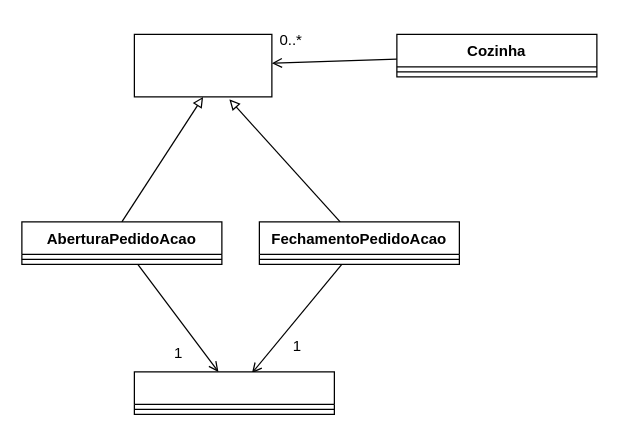
This 619x436 diagram has some shape labels left out. Here are the shapes that lost their labels. From the top down, the centre of each, then its label:
the point at 202,65: «interface» Acao
the point at 233,392: Pedido
